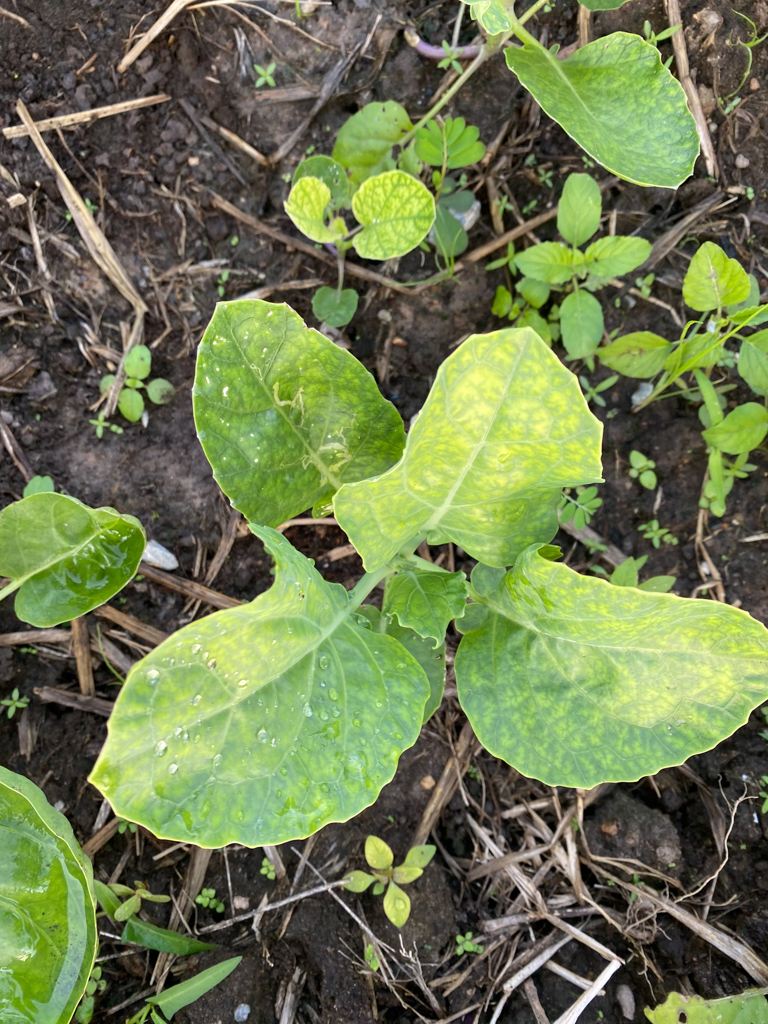Pepper yellow leaf: (380, 342, 610, 515), (352, 171, 435, 261), (279, 174, 340, 246)
